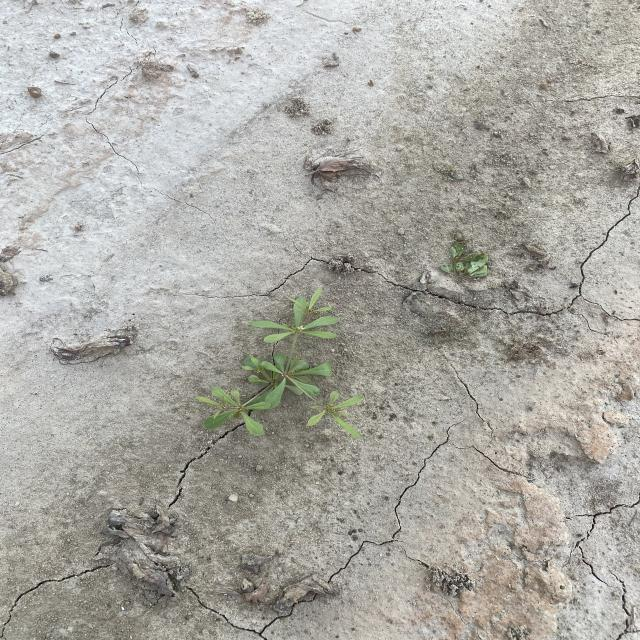Carpetweed: (193, 284, 367, 442)
